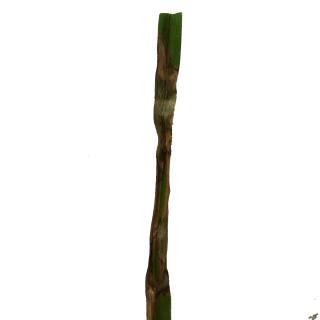Hawar-Daun: (153, 135, 175, 317), (152, 44, 179, 138)
